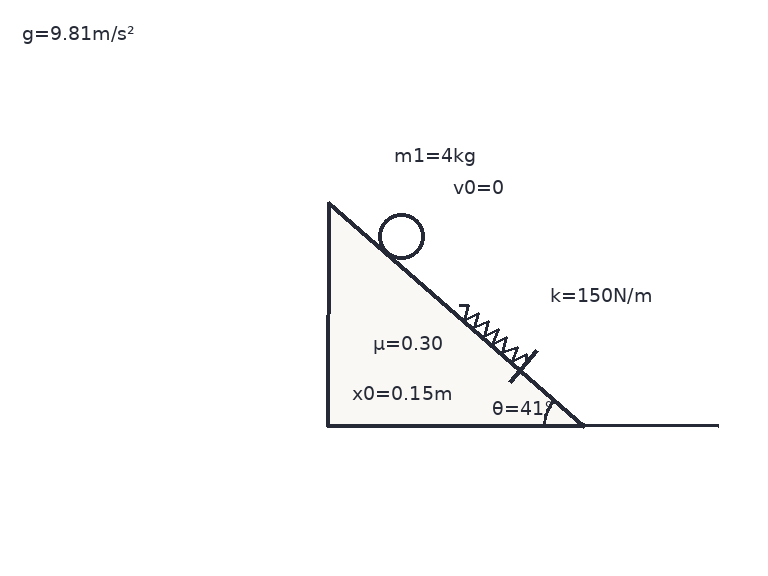ball: (376, 211, 426, 261)
ramp: (325, 201, 586, 428)
spring: (457, 302, 528, 365)
